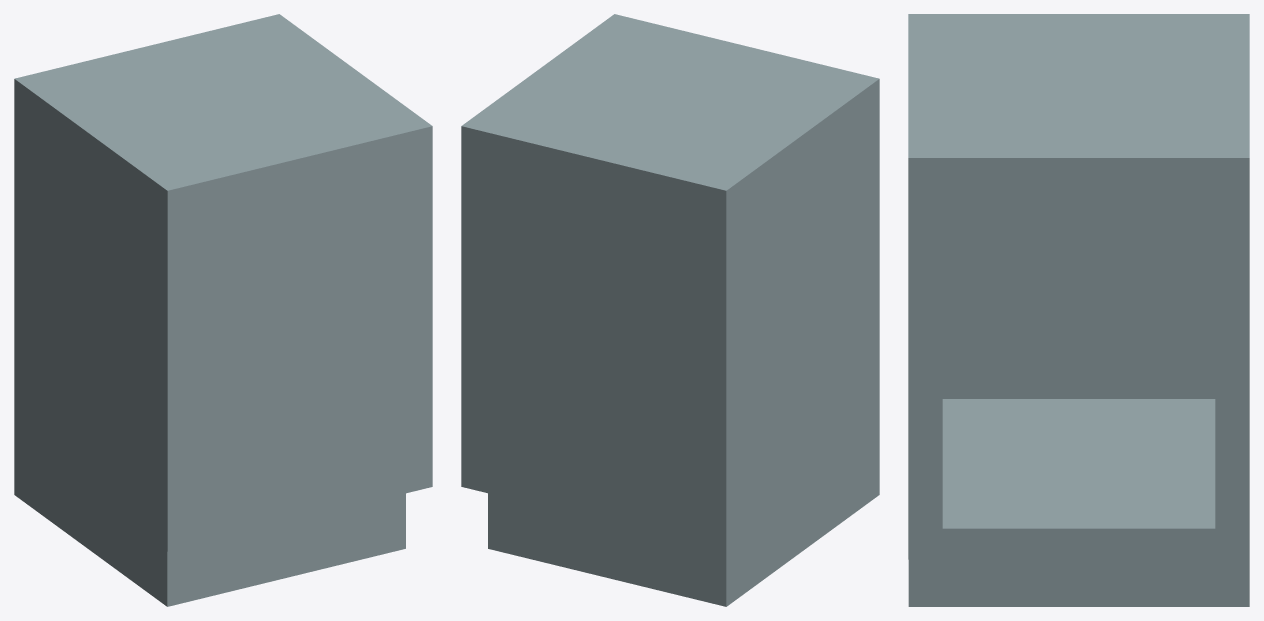
Rendered from cabinet_Body.ver3.fbx.
The picture shows the model from 3 angles, left to right: view 1: azimuth 30°, elevation 25°; view 2: azimuth 150°, elevation 25°; view 3: azimuth 270°, elevation 25°; orthographic projection. The views are drawn at different scales.
Parts seen in each view (by area): view 1: Cube.012, Cube.013, Cube.009, Cube.010, Cube.011; view 2: Cube.011, Cube.013, Cube.009, Cube.010, Cube.012; view 3: Cube.013, Cube.010, Cube.009, Cube.011, Cube.012.
Part boxes in pixels (box(x1,y1,x2,y2)): Cube.012: box(152, 115, 432, 551); Cube.013: box(14, 79, 193, 539); Cube.009: box(28, 21, 416, 217); Cube.010: box(14, 439, 405, 606); Cube.011: box(14, 14, 294, 89); Cube.011: box(461, 115, 741, 551); Cube.013: box(700, 72, 879, 550); Cube.009: box(476, 15, 879, 216); Cube.010: box(488, 412, 879, 606); Cube.012: box(599, 14, 878, 318); Cube.013: box(908, 14, 1215, 398); Cube.010: box(908, 399, 1249, 606); Cube.009: box(908, 14, 1249, 188); Cube.011: box(1215, 14, 1249, 559); Cube.012: box(908, 14, 942, 559).
Bounding box in the file's own units: 200 × 300 × 200.
